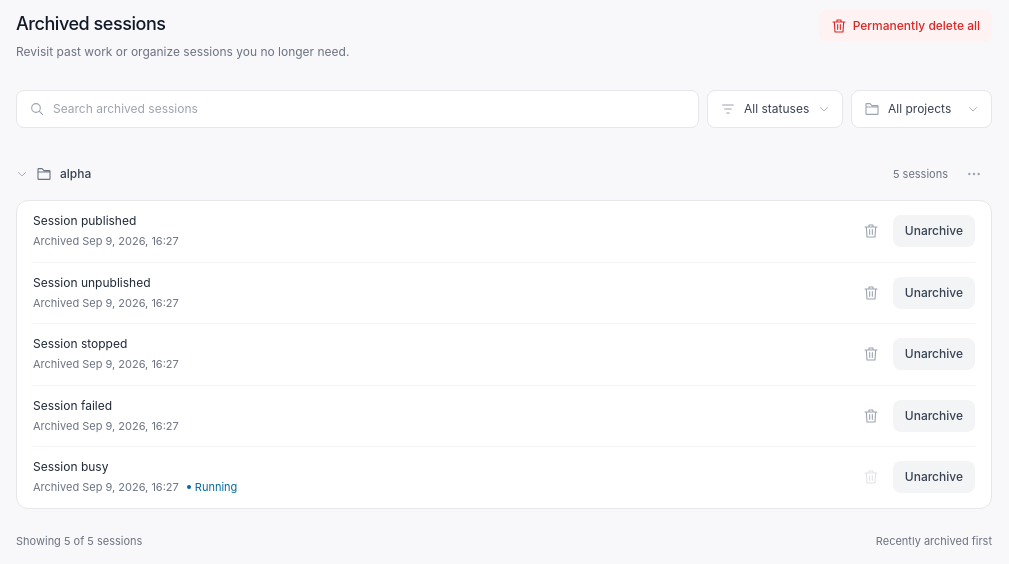
Test: archived session management › offers four chat states and finds both successful and stopped conversations as idle
expect the link "Session published Archived Sep 9, 2026, 16:27" is shown: met, box [32,213,179,256]
expect the text "Running" is shown: met, box [187,479,237,496]
Select "Idle" in the 1st dropdown named "Filter by status" at (793, 109), box [744,91,842,127]
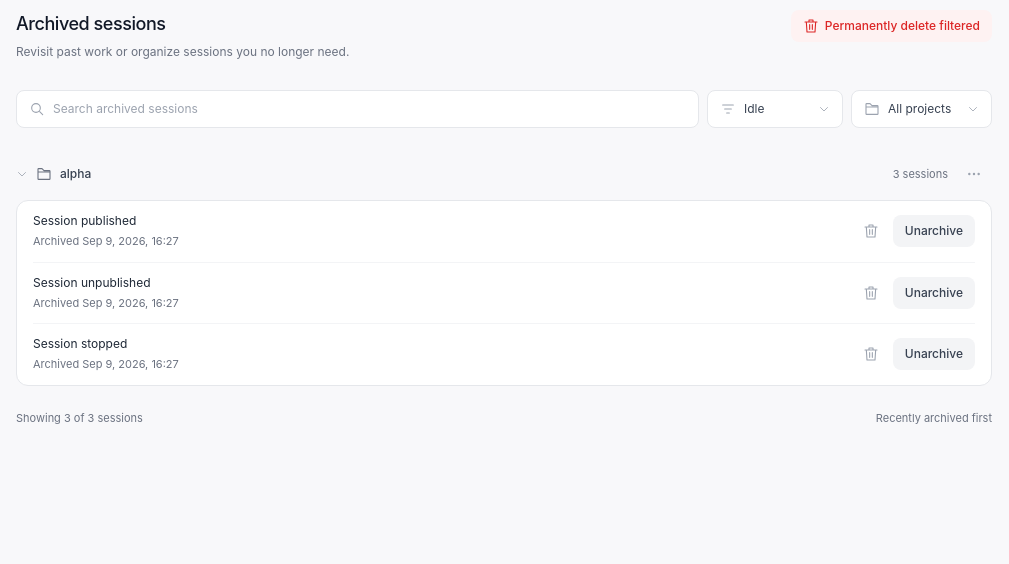
expect the link "Session failed" is gone: met
expect the link "Session busy" is gone: met
